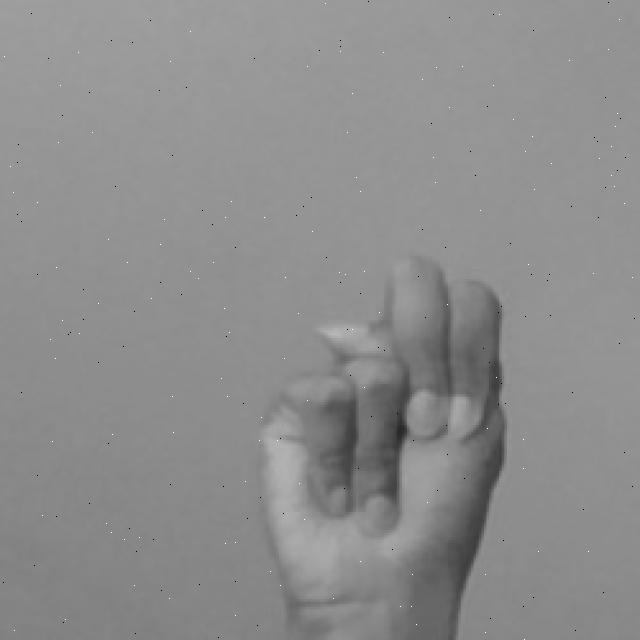N: (244, 245, 516, 640)
